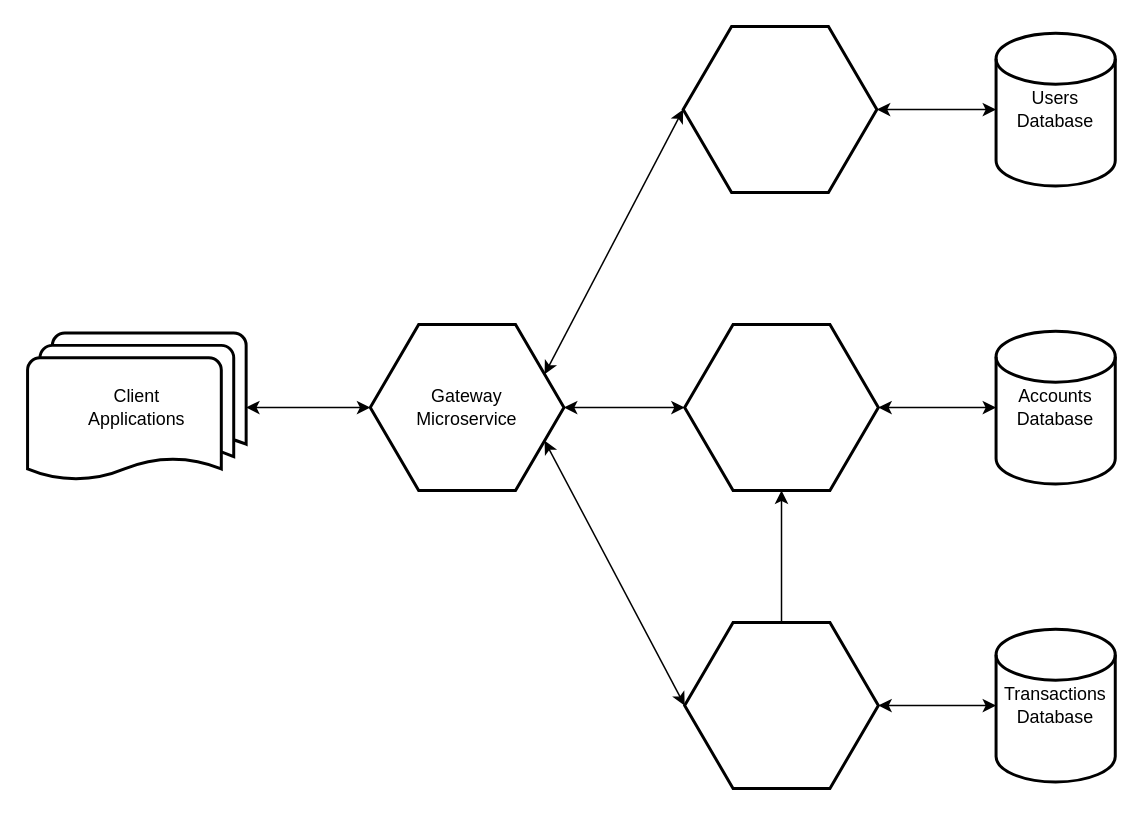
Some shapes in this 1141 by 817 pixel diagram are drawn without their labels. Each missing label, with the centre of its shape:
Accounts Microservice: (x=780, y=406)
Transactions Microservice: (x=780, y=704)
Users Microservice: (x=779, y=108)
